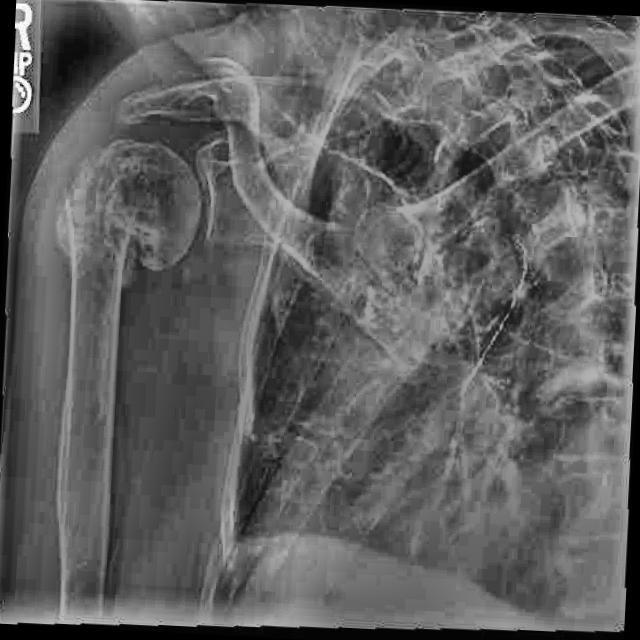shoulder fracture: (45, 158, 178, 297)
